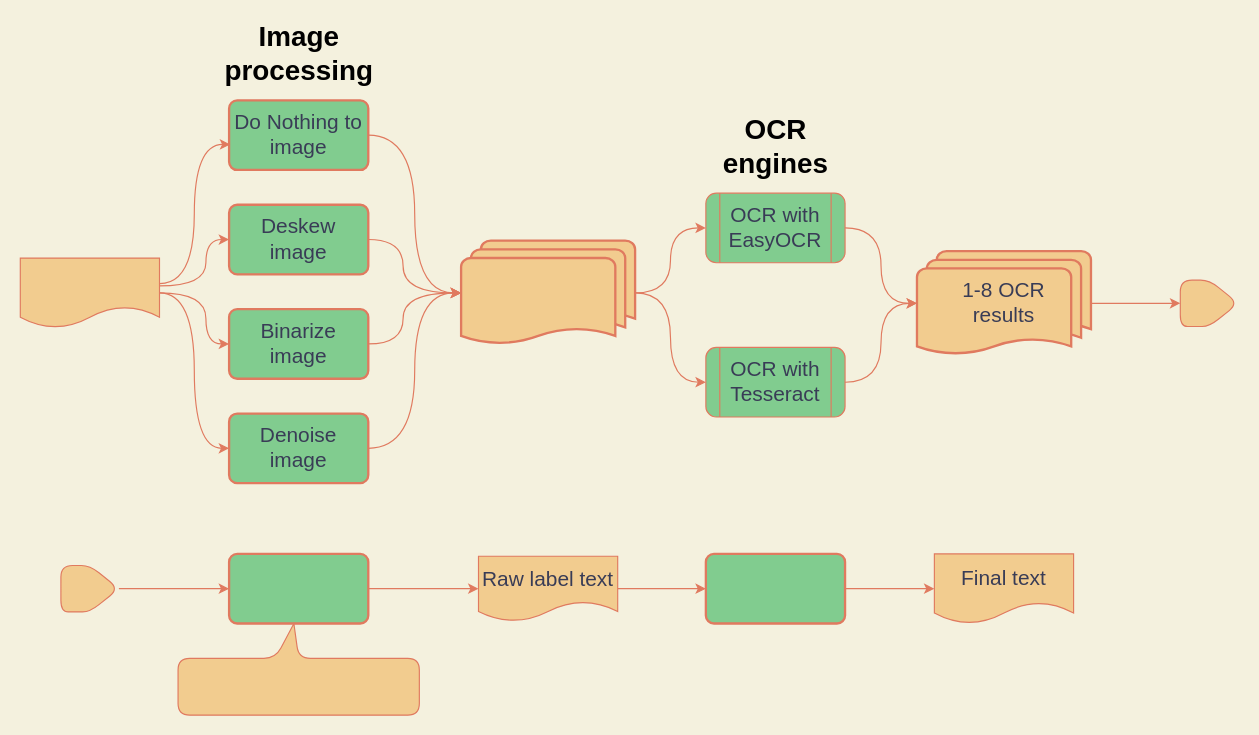
Some shapes in this 1259 by 735 pixel diagram are drawn without their labels. Each missing label, with the box of its shape:
1-4 modified images: (459, 239, 636, 346)
Clean text: (704, 552, 846, 624)
Combine text: (227, 552, 369, 624)
Label image: (19, 257, 160, 328)
This is only needed if we have more than 1 OCR result.: (177, 622, 419, 715)
